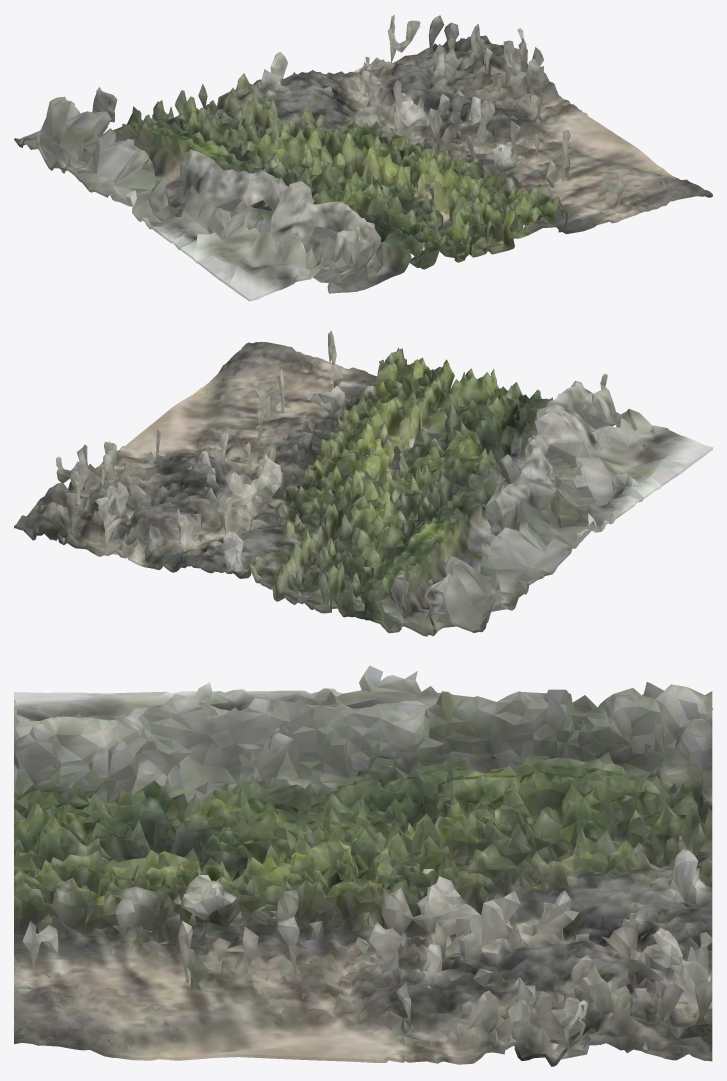
The model's file is Block_L16_30.glb.
3 views of the same model, one above another, from view 1: azimuth 30°, elevation 25°; view 2: azimuth 150°, elevation 25°; view 3: azimuth 270°, elevation 25° (orthographic). The views are drawn at different scales.
Parts seen in each view (by area): view 1: rtc; view 2: rtc; view 3: rtc.
Part boxes in pixels (<box>): rtc: <box>14,15,712,301</box>; rtc: <box>14,330,712,636</box>; rtc: <box>14,665,712,1066</box>.
Bounding box in the file's own units: 80.54 × 13.99 × 70.63.
3 materials, 3 textured.
